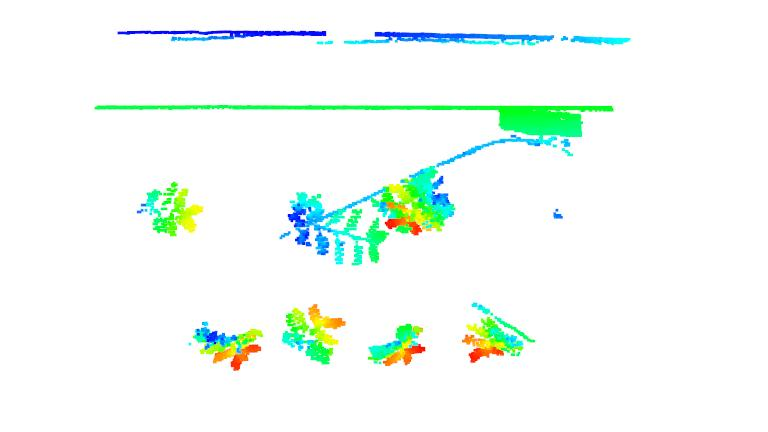chickpea: (284, 190, 387, 267), (370, 164, 458, 237), (278, 301, 348, 366), (135, 181, 204, 241), (189, 320, 264, 373), (462, 316, 525, 366), (367, 322, 428, 369)
